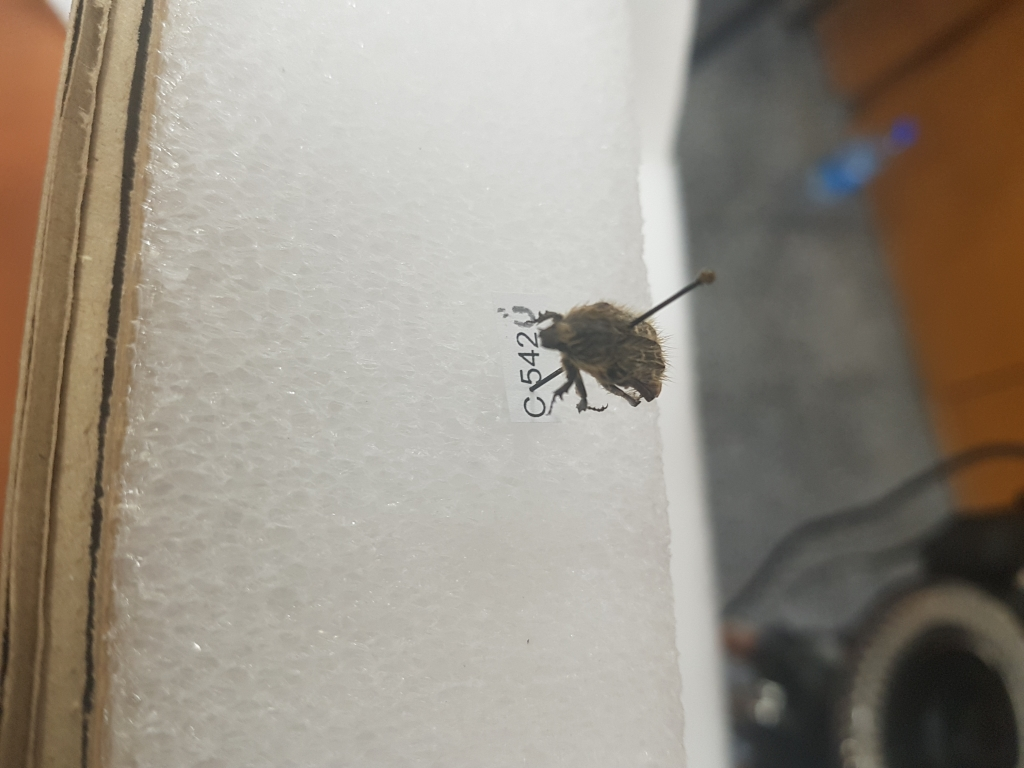Tropinota_hirta: (527, 300, 676, 418)
